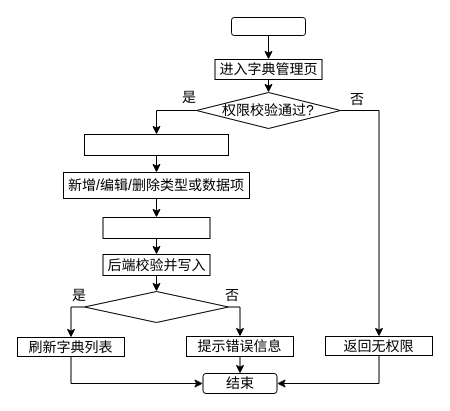
Some shapes in this 450 by 411 pixel diagram are drawn without their labels. Each missing label, with the box of its shape:
开始: (230, 16, 306, 36)
提交字典变更: (102, 216, 210, 238)
操作成功?: (84, 290, 228, 322)
查询字典类型与数据项: (84, 134, 228, 156)
